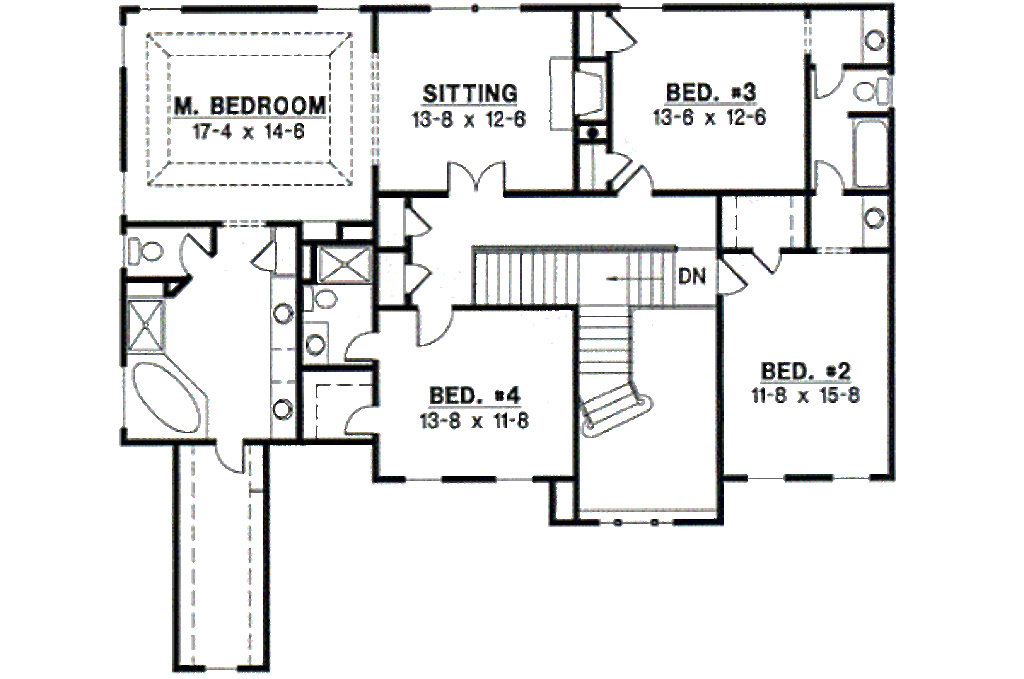door: (443, 160, 507, 199), (407, 304, 453, 350), (208, 442, 247, 483), (607, 11, 640, 57), (176, 235, 208, 281), (812, 61, 844, 103), (715, 257, 746, 299), (622, 164, 659, 199), (341, 329, 379, 363), (340, 403, 379, 436), (750, 244, 785, 279), (400, 261, 432, 298), (810, 159, 845, 192), (603, 147, 632, 186), (402, 204, 432, 237), (248, 245, 279, 272)
large_sink: (127, 233, 168, 270), (297, 286, 340, 320), (852, 73, 891, 110)
small_sink: (266, 274, 303, 435), (302, 317, 333, 366), (860, 194, 887, 249), (863, 6, 888, 63)
stairs: (474, 241, 675, 430)
tub: (125, 352, 208, 438), (849, 118, 890, 193)
